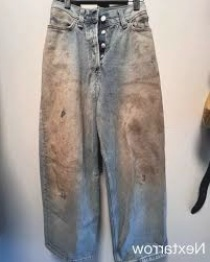earth: (47, 68, 75, 185), (126, 82, 162, 163)
